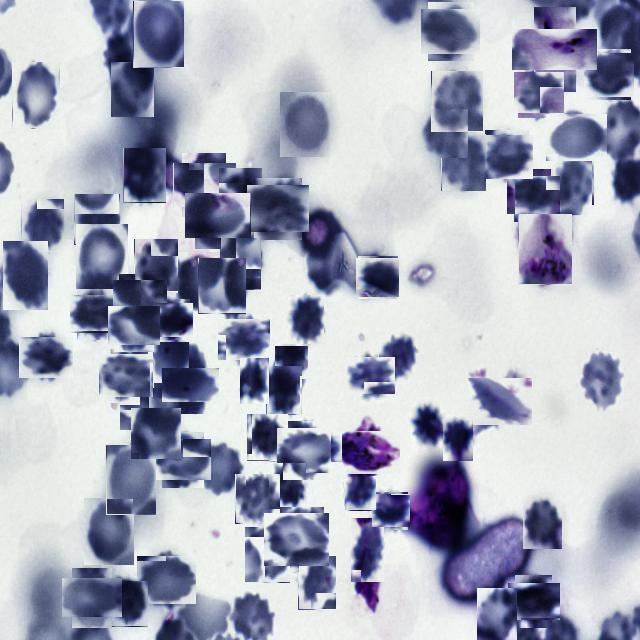gametocyte: (338, 424, 394, 480)
red blood cell: (106, 445, 156, 515), (268, 510, 326, 570), (133, 1, 184, 68), (76, 224, 128, 289), (84, 498, 134, 565), (280, 92, 330, 157), (12, 62, 60, 129), (431, 71, 483, 132), (472, 374, 528, 430), (190, 188, 246, 244), (153, 342, 208, 399), (4, 241, 49, 310), (250, 182, 306, 236), (576, 350, 624, 412), (550, 110, 604, 164), (177, 158, 231, 212), (140, 554, 193, 608), (424, 5, 478, 58), (176, 252, 222, 311), (280, 424, 332, 476), (198, 258, 246, 314), (440, 134, 486, 192), (130, 408, 181, 460), (198, 441, 245, 497), (244, 527, 290, 583), (124, 384, 175, 434), (550, 159, 594, 216), (67, 573, 117, 623), (482, 132, 532, 181), (101, 352, 150, 401), (419, 109, 468, 158), (158, 436, 208, 484), (134, 238, 178, 292), (111, 62, 154, 117), (123, 148, 166, 203), (116, 277, 165, 325), (74, 194, 120, 245), (219, 168, 262, 222), (22, 334, 70, 382), (220, 316, 268, 364), (21, 199, 64, 252), (585, 51, 633, 98), (235, 474, 280, 524), (350, 518, 384, 583), (524, 495, 564, 549), (268, 346, 308, 400), (220, 238, 261, 290), (74, 291, 120, 337), (516, 70, 562, 116), (111, 303, 157, 349), (168, 362, 214, 408), (477, 588, 517, 640), (511, 172, 556, 218), (298, 556, 336, 610), (511, 579, 556, 624), (246, 414, 288, 462), (349, 354, 393, 398), (378, 334, 416, 383), (412, 400, 448, 449), (288, 295, 324, 344), (266, 366, 302, 415), (111, 581, 148, 627), (269, 463, 306, 509), (358, 257, 398, 298), (154, 300, 192, 338), (240, 358, 269, 404), (373, 492, 409, 528), (443, 420, 473, 461), (344, 476, 376, 511)
trophozoite: (523, 18, 587, 82), (518, 214, 572, 285)
